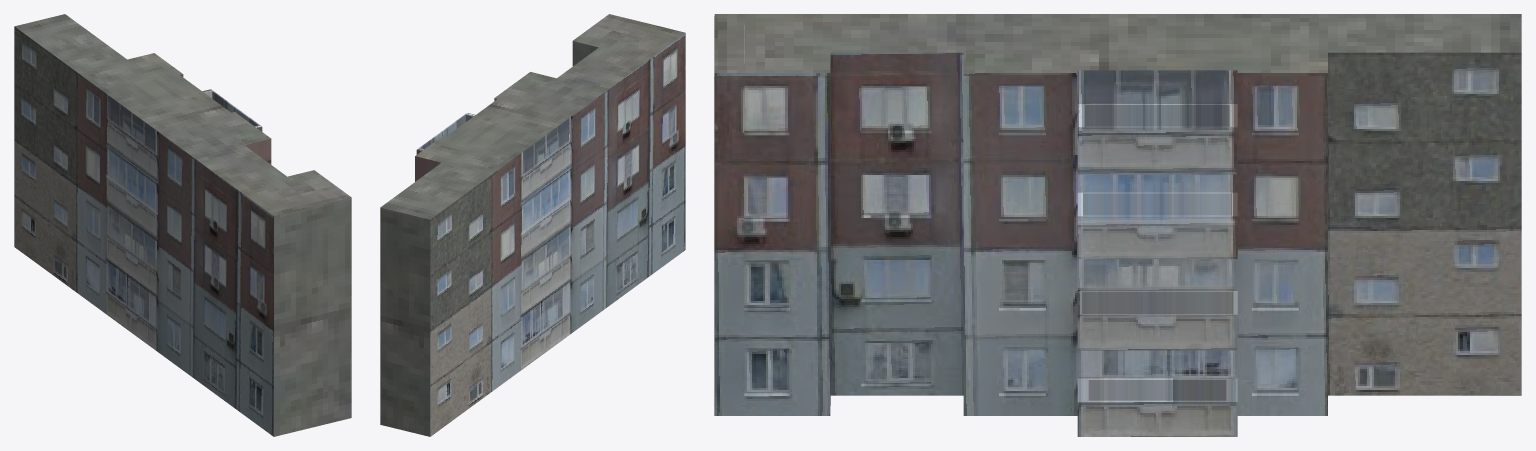
Rendered from modular_apt_balc.glb.
3 renders of one model, left to right at view 1: azimuth 30°, elevation 25°; view 2: azimuth 150°, elevation 25°; view 3: azimuth 270°, elevation 25°, orthographic. The views are drawn at different scales.
Parts seen in each view (by area): view 1: Cube; view 2: Cube; view 3: Cube.
Boxes of the visible parts, bbox=[...] form: Cube: bbox=[14, 14, 351, 436]; Cube: bbox=[380, 14, 685, 436]; Cube: bbox=[714, 14, 1521, 436].
Size of the model in its own units: 9.2 by 18.43 by 39.29.
1 material, 1 textured.
